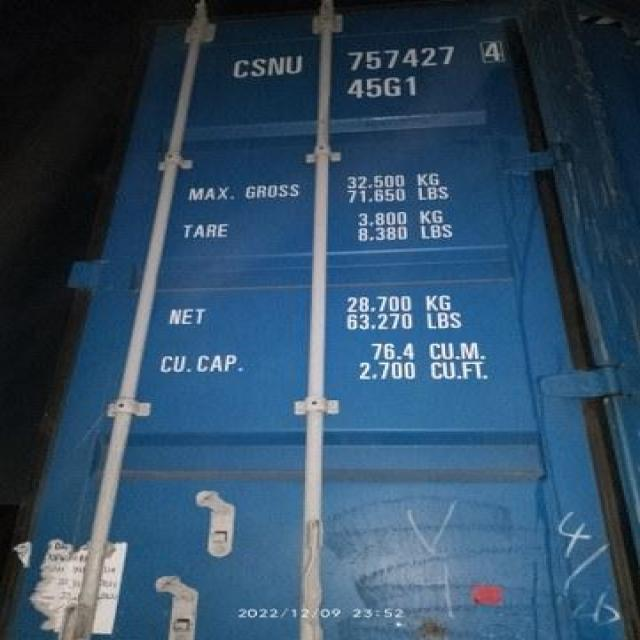ISO: (346, 76, 419, 99)
container_number: (226, 38, 506, 80)
